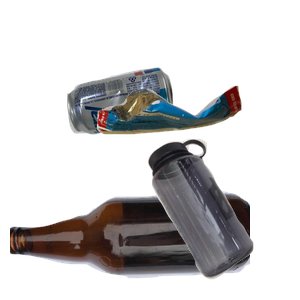glass: (10, 188, 250, 300)
metal: (65, 65, 231, 192)
plastic: (145, 136, 300, 300)
trash: (94, 83, 300, 210)
